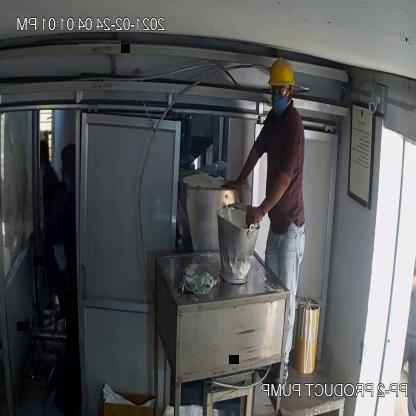helmet: (262, 57, 299, 92)
